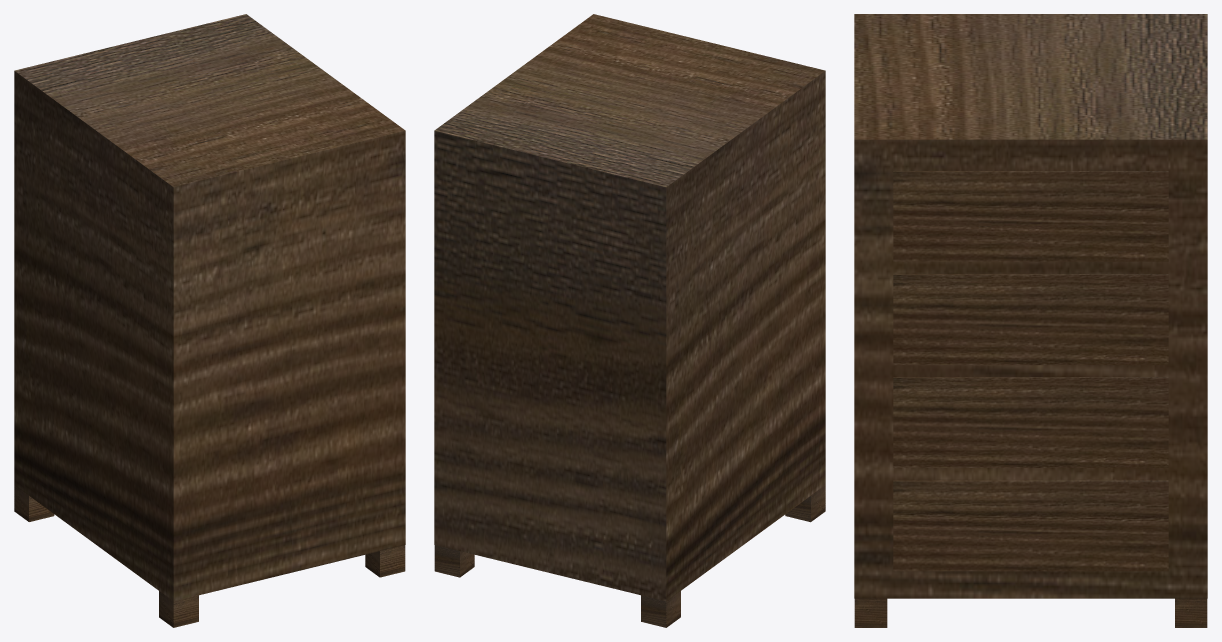
File: tansu.fbx
The picture shows the model from 3 angles, left to right: view 1: azimuth 30°, elevation 25°; view 2: azimuth 150°, elevation 25°; view 3: azimuth 270°, elevation 25°; orthographic projection. The views are drawn at different scales.
Visible parts, largest first — view 1: pCube5; view 2: pCube5; view 3: pCube5, polySurface6.
Part boxes in pixels (left/top/right/bottom): pCube5: left=14, top=14, right=405, bottom=627; pCube5: left=434, top=14, right=825, bottom=627; pCube5: left=854, top=14, right=1207, bottom=627; polySurface6: left=893, top=171, right=1168, bottom=261.
Size of the model in its own units: 4.15 by 7.51 by 4.92.
1 material, 1 textured.
